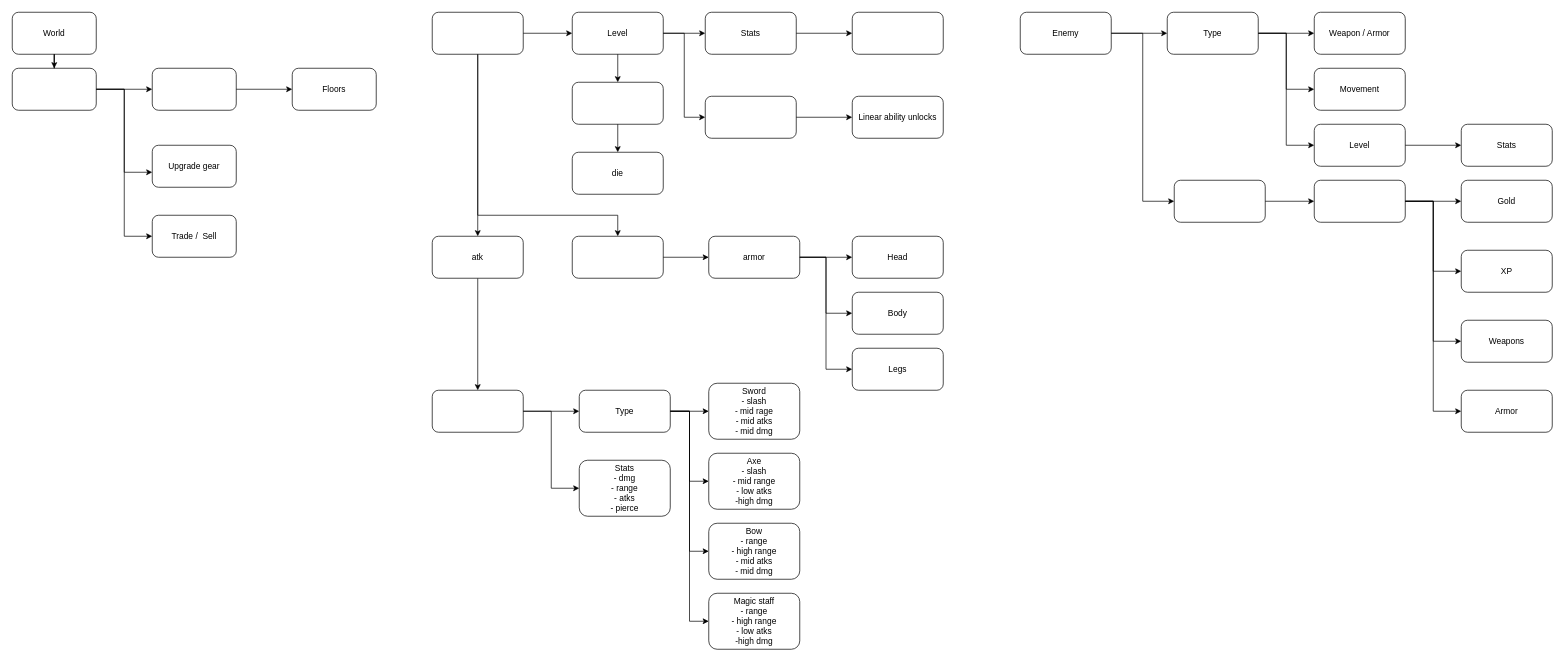
This 1565x669 diagram has some shape labels left out. Here are the shapes that lost their labels. From the top down, the centre of each, then its label:
point (477, 33): Player
point (897, 33): Atk / Def / Dex
point (54, 89): Hub
point (194, 89): Dungeon
point (617, 103): hp
point (750, 117): Skills
point (1219, 201): Death
point (1359, 201): Drops
point (617, 257): defence
point (477, 411): Weapon
